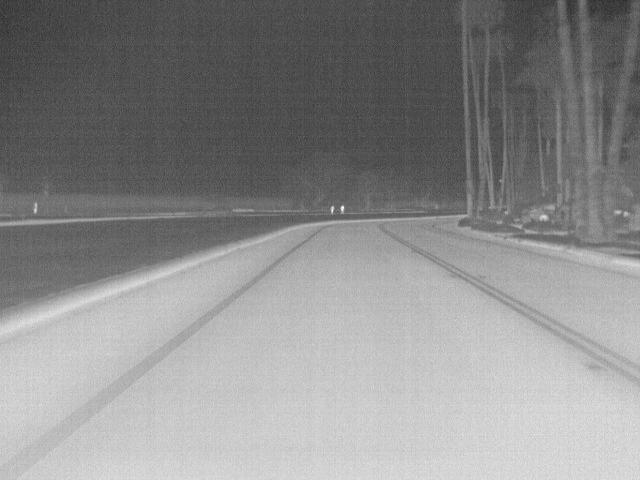person: (32, 200, 40, 214), (339, 202, 346, 214), (330, 203, 337, 214)
